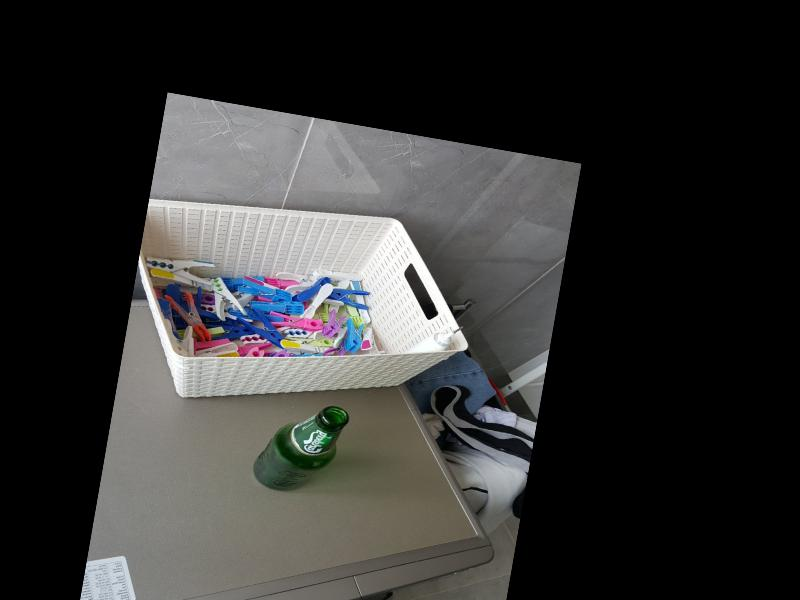Beer: (251, 396, 351, 501)
